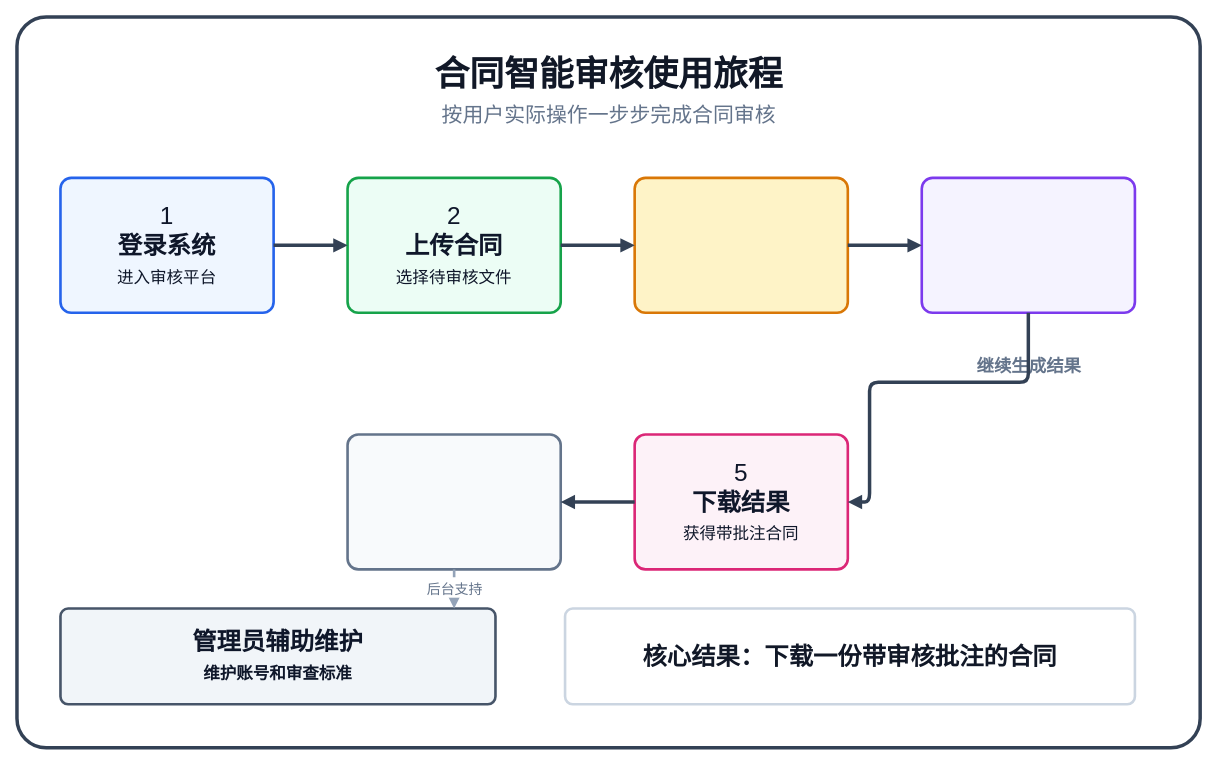
This 1216x764 diagram has some shape labels left out. Here are the shapes that lost their labels. From the top down, the centre of each, then its label:
At pixel 741 245: "3 选择要求 默认标准或专用要求".
At pixel 1028 245: "4 等待审核 系统自动分析风险".
At pixel 454 501: "6 查看历史 回看过往结果".
